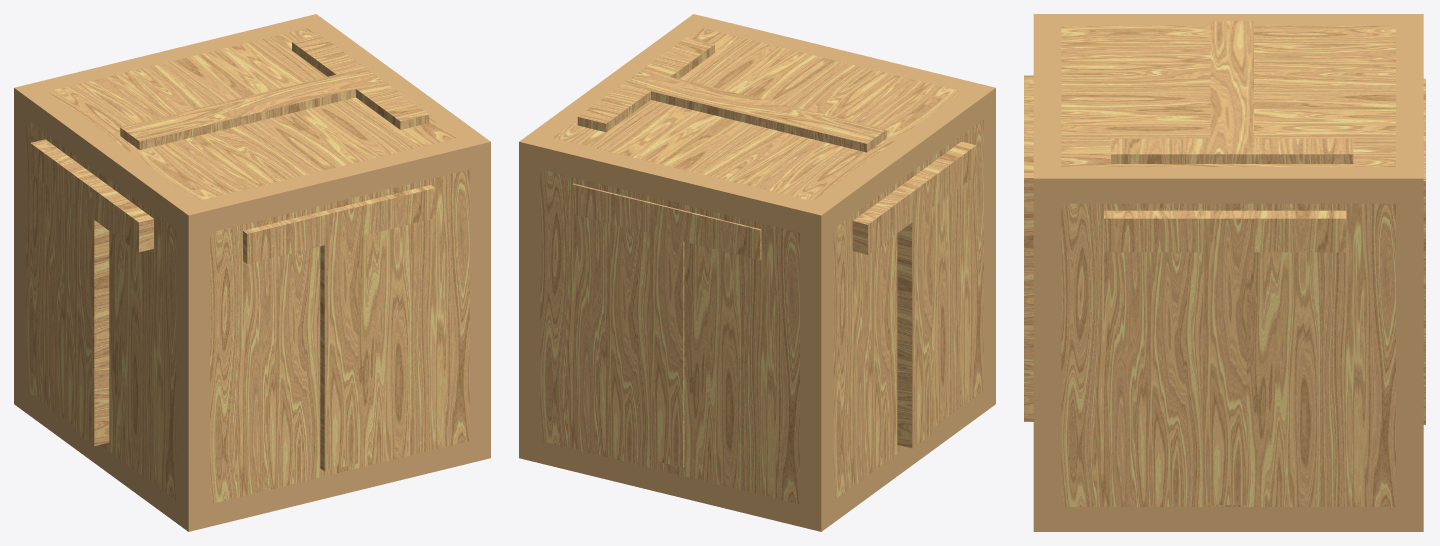
File: block-t.fbx
3 views of the same model, side by side, from view 1: azimuth 30°, elevation 25°; view 2: azimuth 150°, elevation 25°; view 3: azimuth 270°, elevation 25° (orthographic). The views are drawn at different scales.
Parts seen in each view (by area): view 1: Box, FRONT, LEFT, TOP; view 2: Box, BACK, LEFT, TOP; view 3: Box, RIGHT, TOP, FRONT, BACK.
Part boxes in pixels (x1=…): Box: x1=14, y1=14, x2=490, y2=531; FRONT: x1=243, y1=185, x2=435, y2=471; LEFT: x1=30, y1=139, x2=153, y2=445; TOP: x1=120, y1=35, x2=429, y2=149; Box: x1=519, y1=14, x2=995, y2=531; BACK: x1=572, y1=183, x2=761, y2=467; LEFT: x1=852, y1=141, x2=976, y2=448; TOP: x1=577, y1=37, x2=886, y2=152; Box: x1=1033, y1=14, x2=1423, y2=531; RIGHT: x1=1104, y1=210, x2=1346, y2=504; TOP: x1=1111, y1=21, x2=1353, y2=163; FRONT: x1=1024, y1=75, x2=1033, y2=421; BACK: x1=1423, y1=78, x2=1425, y2=424.
Size of the model in its own units: 1.1 by 1.04 by 1.03.
2 materials, 2 textured.
